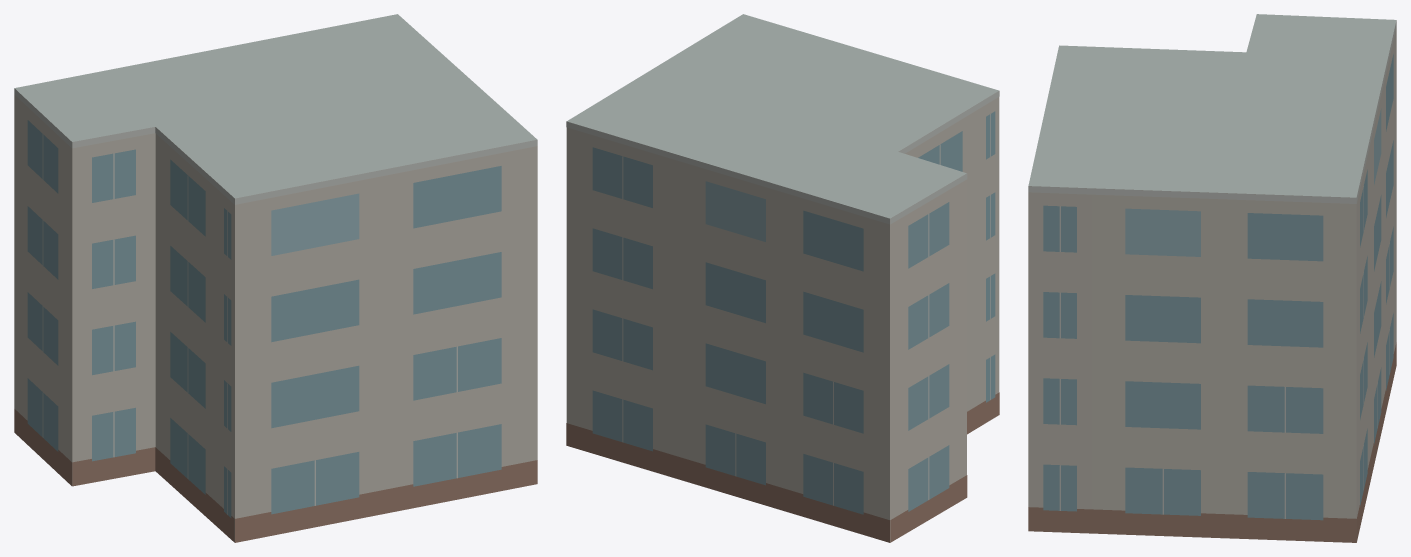
Rendered from survey-upis-32481330.glb.
The picture shows the model from 3 angles, left to right: view 1: azimuth 30°, elevation 25°; view 2: azimuth 150°, elevation 25°; view 3: azimuth 270°, elevation 25°; orthographic projection. The views are drawn at different scales.
Parts seen in each view (by area): view 1: survey-upis-32481330.tmp; view 2: survey-upis-32481330.tmp; view 3: survey-upis-32481330.tmp.
Part boxes in pixels (left/top/right/bottom): survey-upis-32481330.tmp: left=14, top=14, right=537, bottom=542; survey-upis-32481330.tmp: left=566, top=14, right=999, bottom=542; survey-upis-32481330.tmp: left=1028, top=14, right=1396, bottom=542.
Size of the model in its own units: 15.07 by 13.2 by 12.77.
